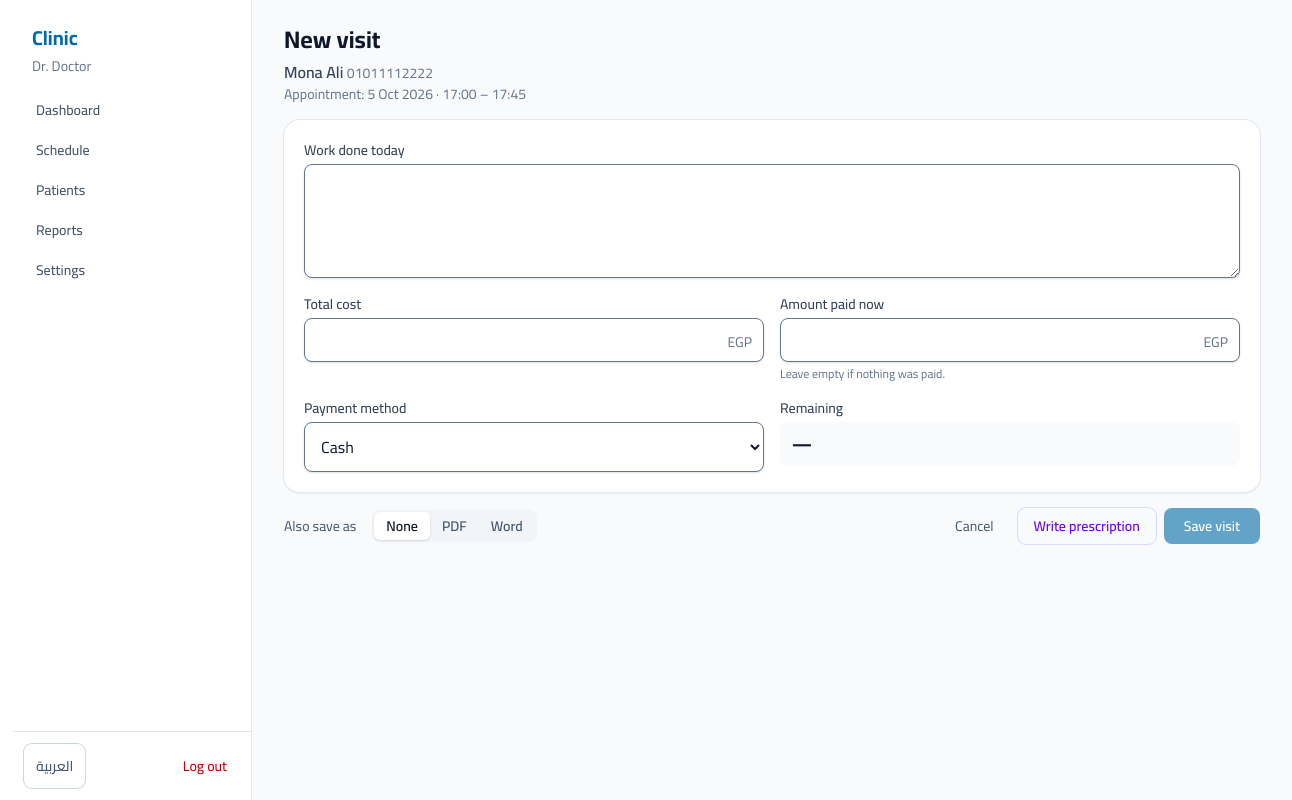
Scenario: VisitForm › typing 1500 / 1000 shows 500 in red, and saving creates the visit
Type "Root canal, session 1 of 2" into the text box labelled "Work done today" at (772, 221), box left=304, top=164, right=1240, bottom=278
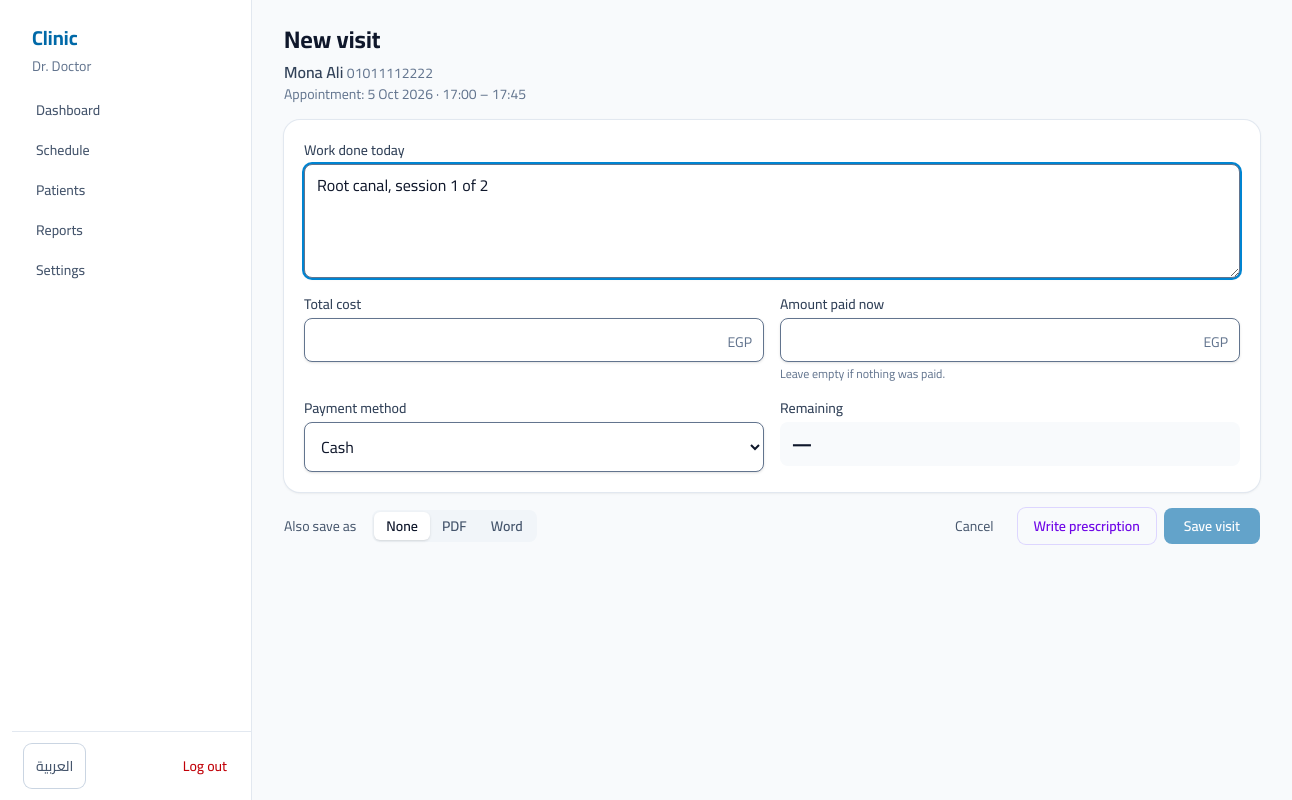
Type "1500" into the field labelled "Total cost" at (534, 340), box left=304, top=318, right=764, bottom=362
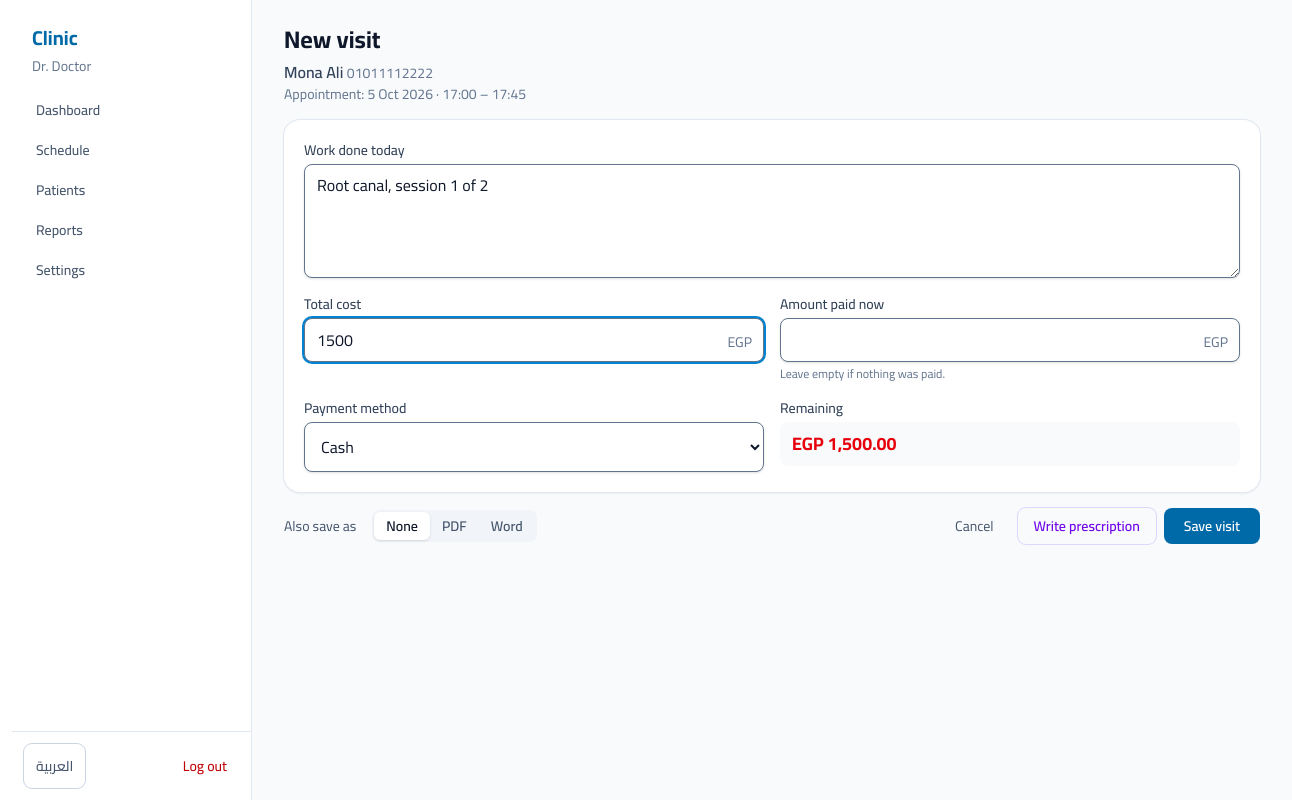
Result: the text with test id "remaining" reads "EGP 1,500.00" at left=792, top=427, right=896, bottom=460
Type "1000" into the field labelled "Amount paid now" at (1010, 340), box left=780, top=318, right=1240, bottom=362
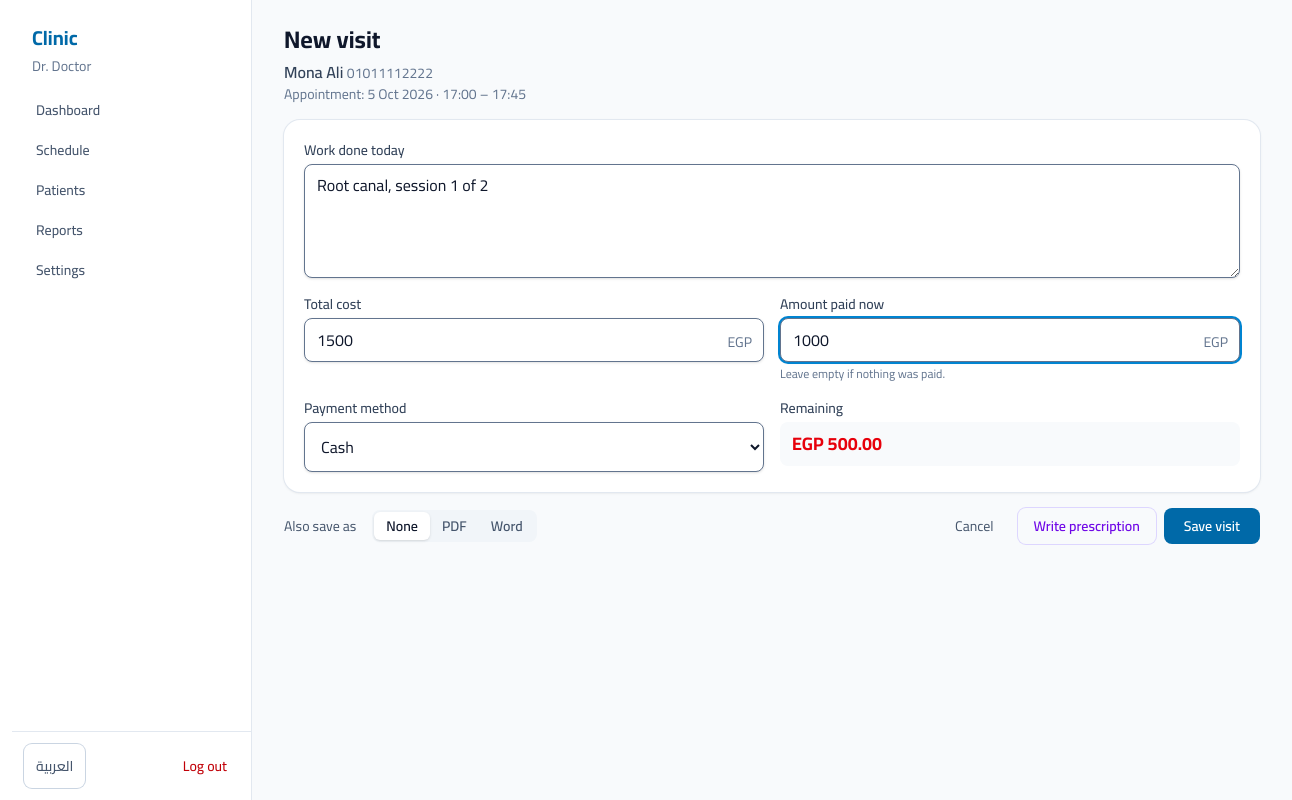
Result: the text with test id "remaining" reads "EGP 500.00" at left=792, top=427, right=882, bottom=460
Select "Card" in the dropdown labelled "Payment method" at (534, 447), box left=304, top=422, right=764, bottom=472
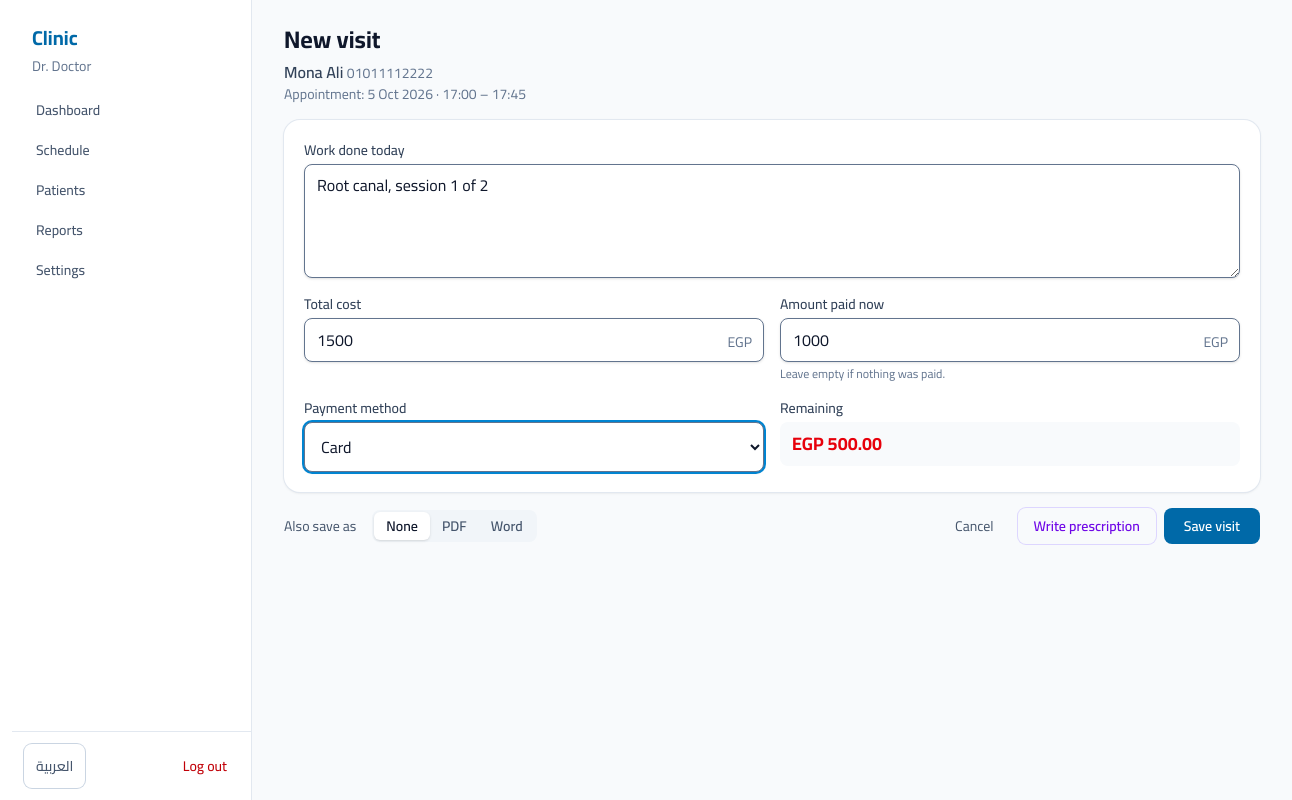
Click the button "Save visit" at (1212, 526), box left=1164, top=508, right=1260, bottom=544
(page scrolled)
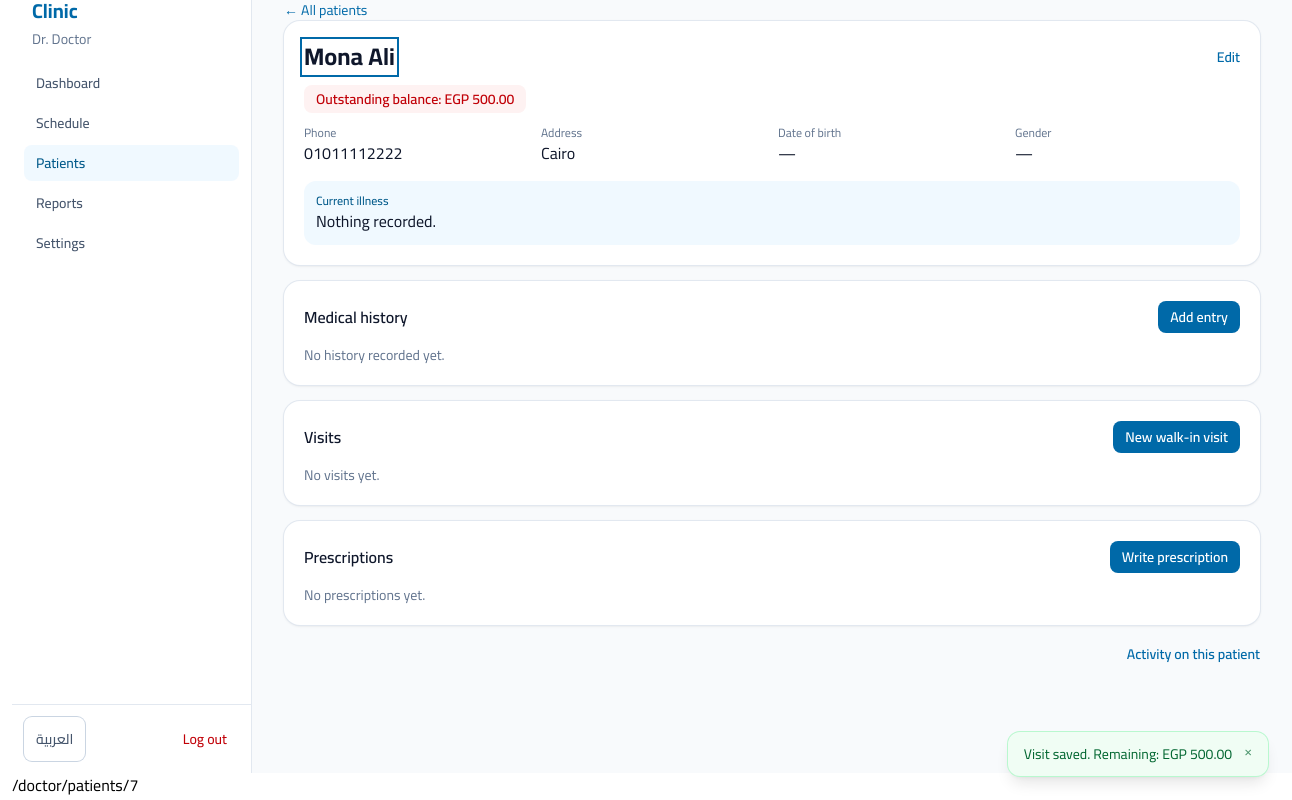
Result: the text "Visit saved. Remaining: EGP 500.00" is shown at left=1024, top=744, right=1232, bottom=764
Result: the text with test id "path" reads "/doctor/patients/7" at left=12, top=770, right=138, bottom=799
